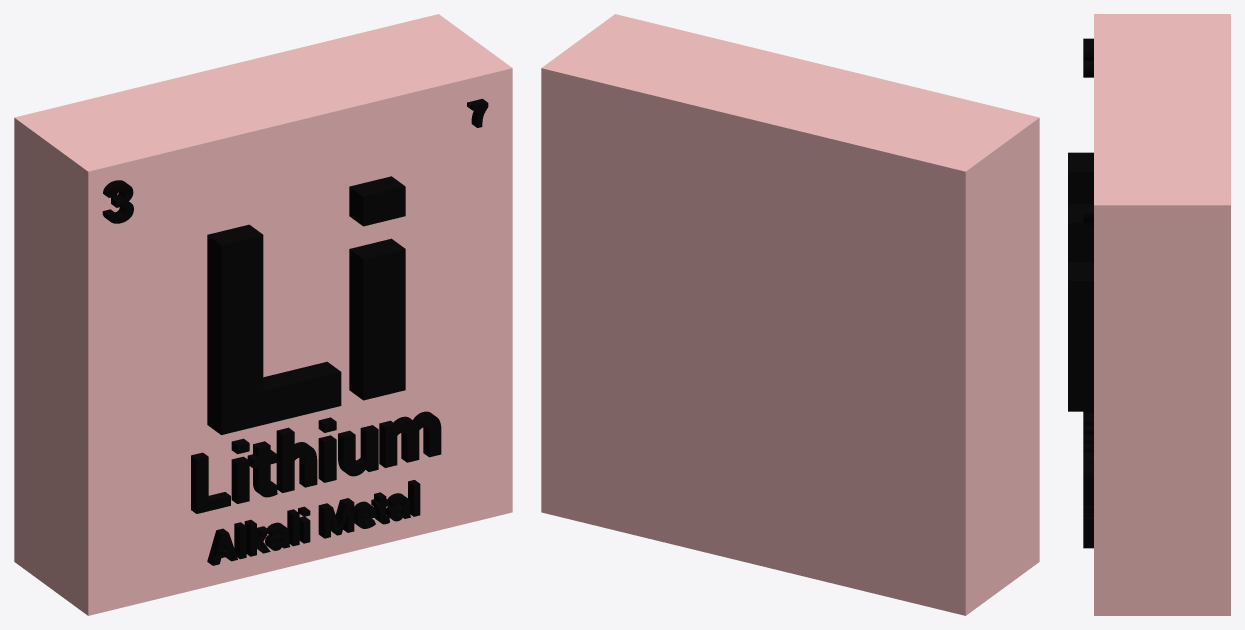
3 views of the same model, side by side, from view 1: azimuth 30°, elevation 25°; view 2: azimuth 150°, elevation 25°; view 3: azimuth 270°, elevation 25° (orthographic). The views are drawn at different scales.
Visible parts, largest first — view 1: Cube, Text, Text.001, Text.002, Text.003; view 2: Cube; view 3: Cube, Text, Text.001, Text.002, Text.003, Text.004.
Boxes of the visible parts, x1,y1,x2,y2 form: Cube: (14,14,512,615); Text: (207,176,405,434); Text.001: (191,411,441,513); Text.002: (207,480,420,565); Text.003: (102,180,133,223); Cube: (541,14,1039,615); Cube: (1094,14,1230,615); Text: (1068,152,1093,411); Text.001: (1083,411,1093,506); Text.002: (1083,506,1093,548); Text.003: (1083,38,1093,77); Text.004: (1083,206,1093,231).
Bounding box in the file's own units: 178 × 178 × 63.95.
